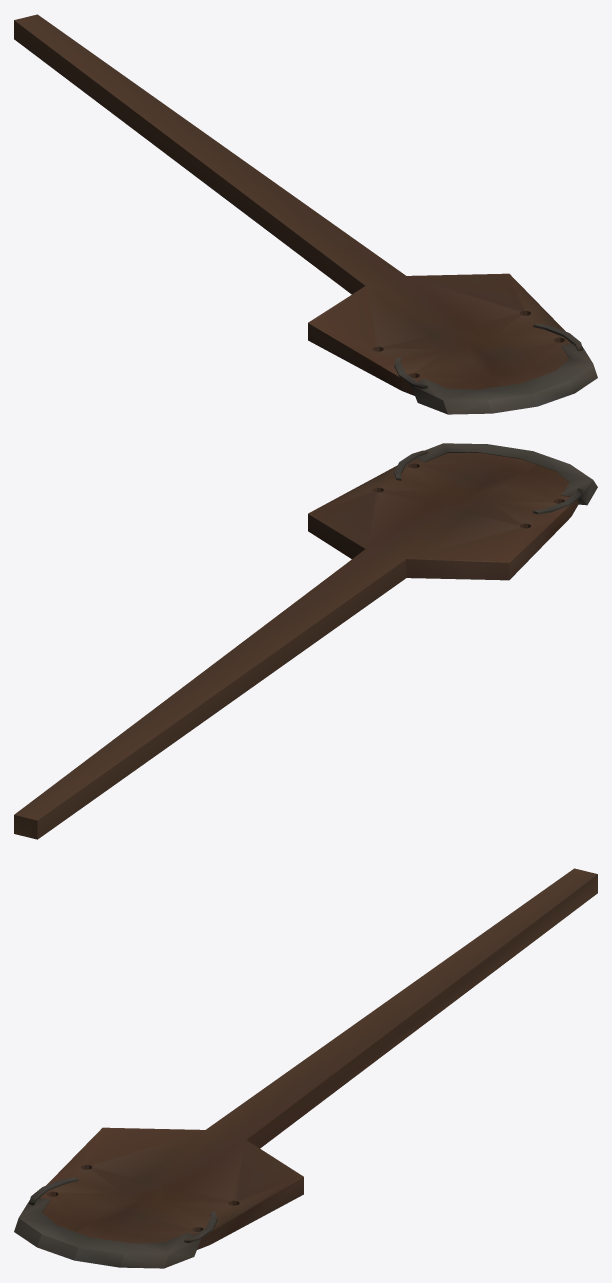
The model's file is spade_0f5d2931.glb.
3 views of the same model, one above another, from view 1: azimuth 30°, elevation 25°; view 2: azimuth 150°, elevation 25°; view 3: azimuth 330°, elevation 25° (orthographic).
Parts seen in each view (by area): view 1: SM_Spade_02_M_Spade_02_0; view 2: SM_Spade_02_M_Spade_02_0; view 3: SM_Spade_02_M_Spade_02_0.
Part boxes in pixels (x1,y1,x2,y2): SM_Spade_02_M_Spade_02_0: (14,14,597,414); SM_Spade_02_M_Spade_02_0: (14,443,597,839); SM_Spade_02_M_Spade_02_0: (14,868,597,1268).
Bounding box in the file's own units: 0.3749 × 0.0338 × 1.65.
